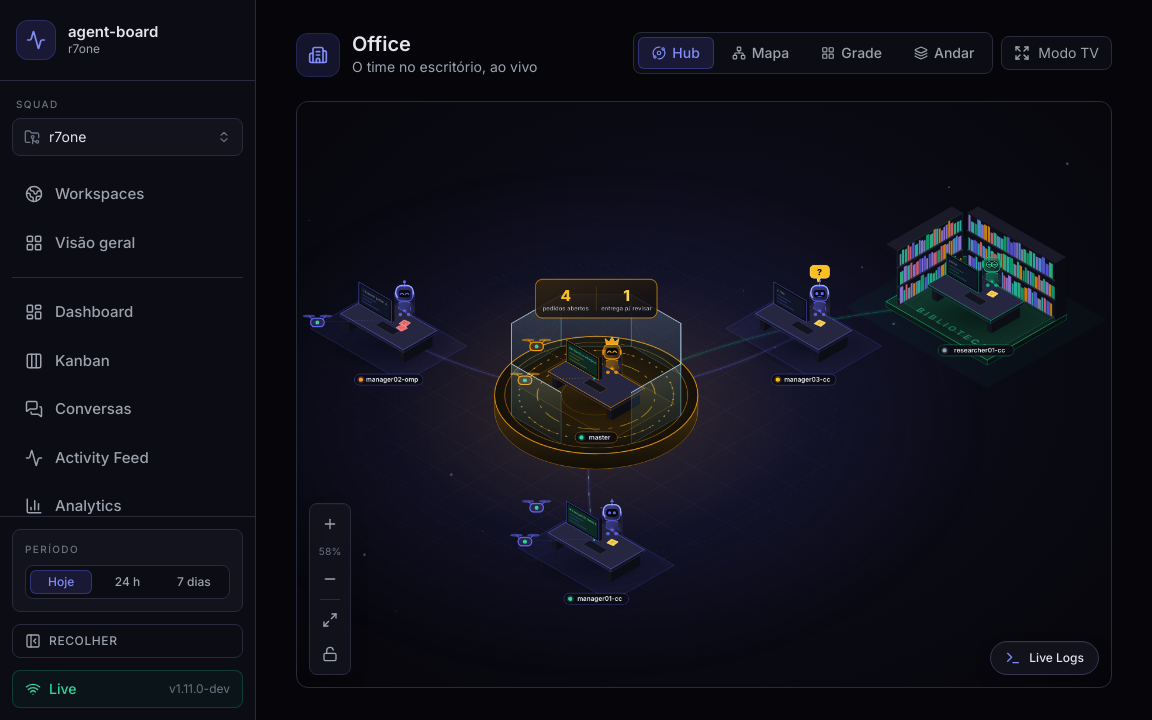
Test: Office, modos, TV e Live Logs › Live Logs fecha com Esc e com clique fora
Click the button with aria-label "Abrir Live Logs": (1045, 658) left=990, top=641, right=1099, bottom=675
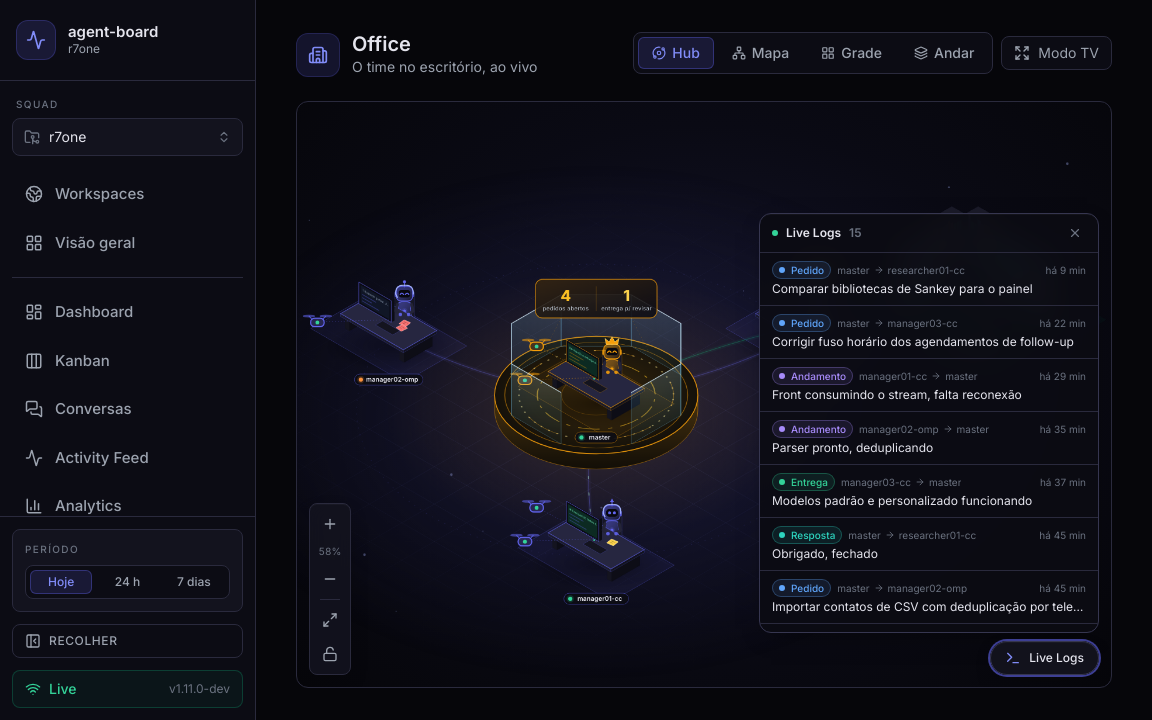
expect the element with test id "live-logs" is shown: met, box left=759, top=213, right=1099, bottom=633
Press Escape
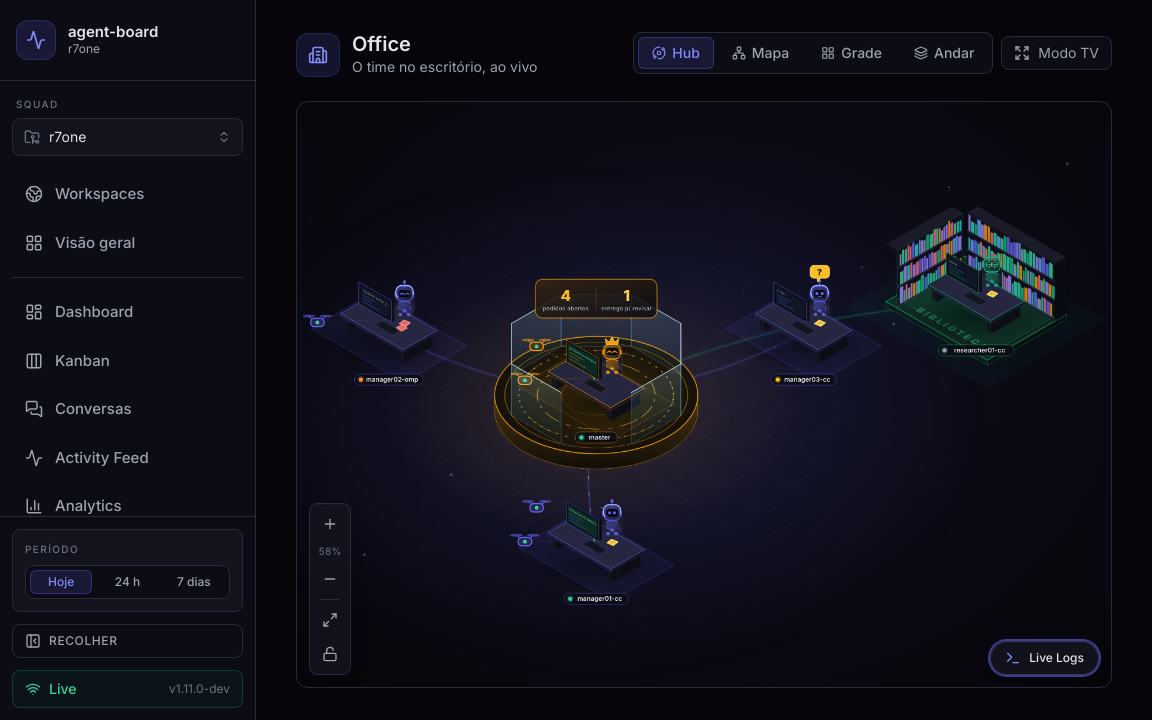
expect the element with test id "live-logs" is gone: met
Click the button with aria-label "Abrir Live Logs": (1045, 658) left=990, top=641, right=1099, bottom=675
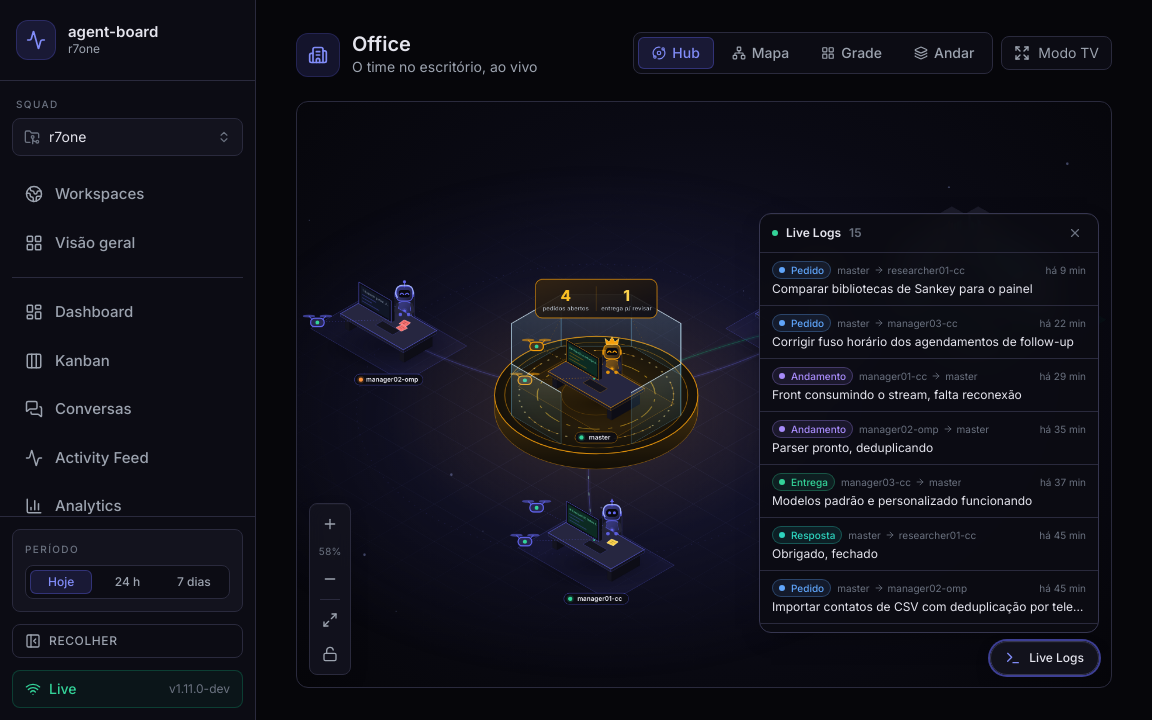
expect the element with test id "live-logs" is shown: met, box left=759, top=213, right=1099, bottom=633
Click the header that starts with "Office": (704, 54) left=296, top=32, right=1112, bottom=77
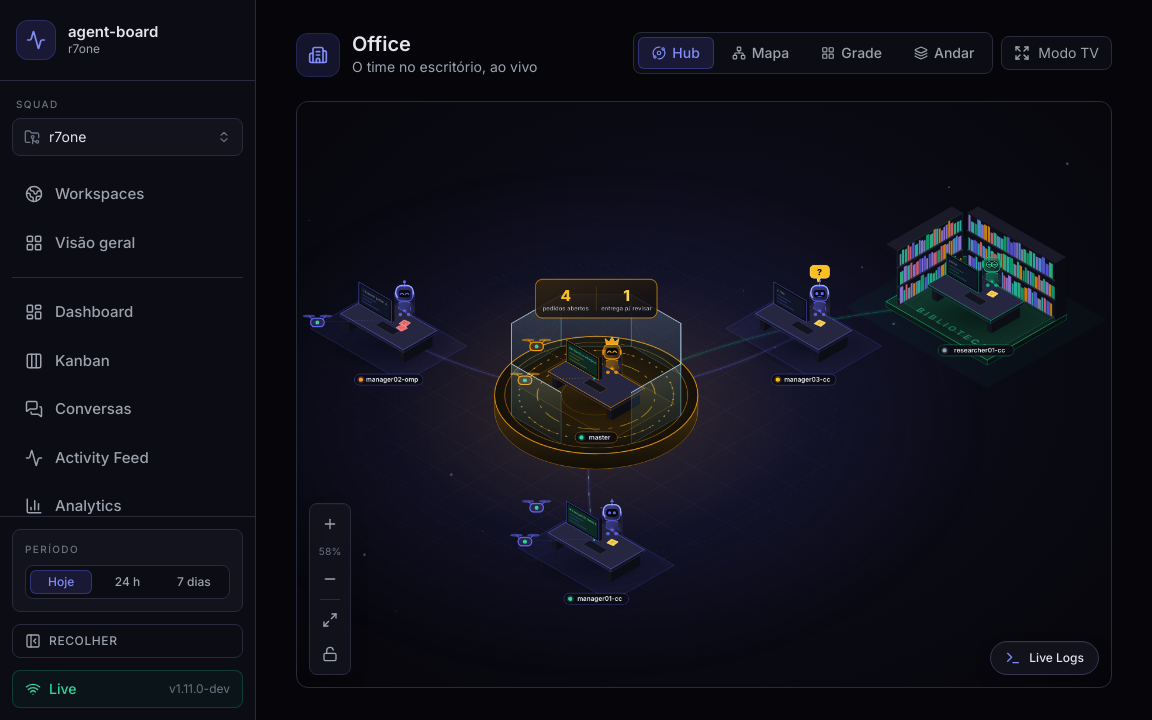
expect the element with test id "live-logs" is gone: met
